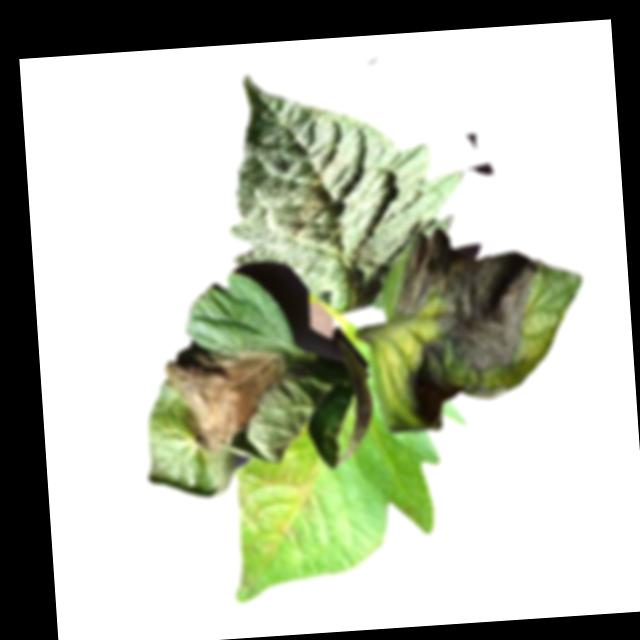Late_blight: (386, 221, 552, 431), (161, 333, 298, 460), (233, 441, 332, 561)
